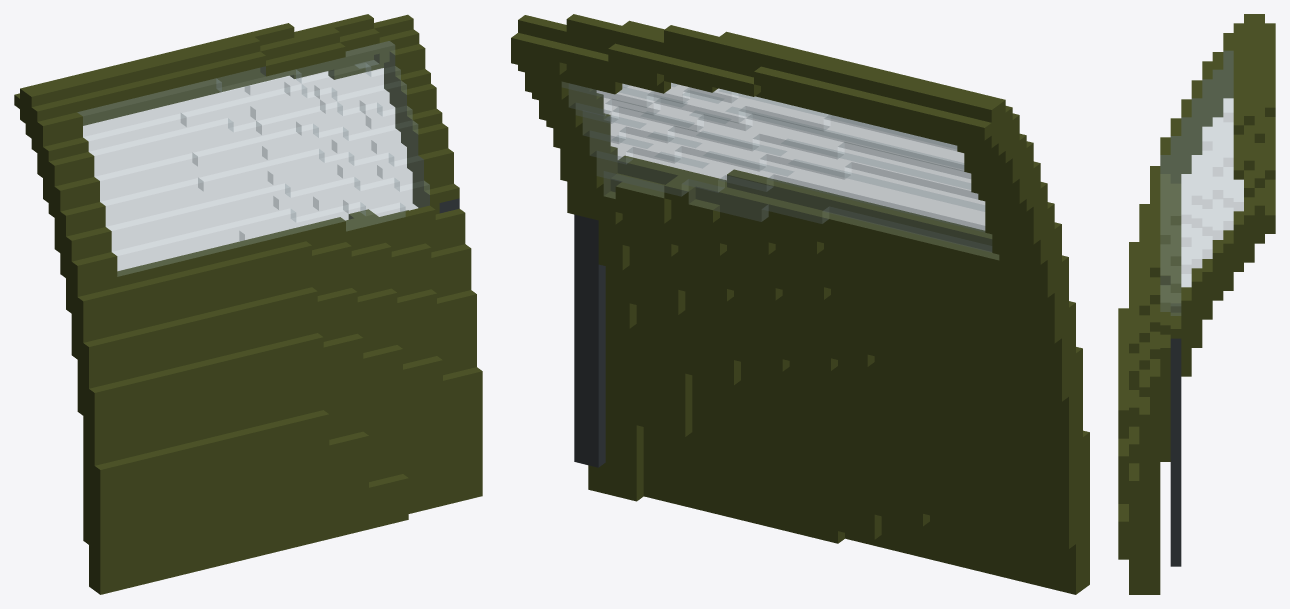
File: military_transport_helicopter_cockpit_door.glb
3 views of the same model, side by side, from view 1: azimuth 30°, elevation 25°; view 2: azimuth 150°, elevation 25°; view 3: azimuth 270°, elevation 25° (orthographic). The views are drawn at different scales.
Parts seen in each view (by area): view 1: body:compound; view 2: body:compound; view 3: body:compound.
Boxes of the visible parts, x1=… form: body:compound: x1=14, y1=14, x2=482, y2=594; body:compound: x1=511, y1=14, x2=1089, y2=594; body:compound: x1=1118, y1=14, x2=1275, y2=594.
Bounding box in the file's own units: 1.22 × 1.34 × 0.4688.
